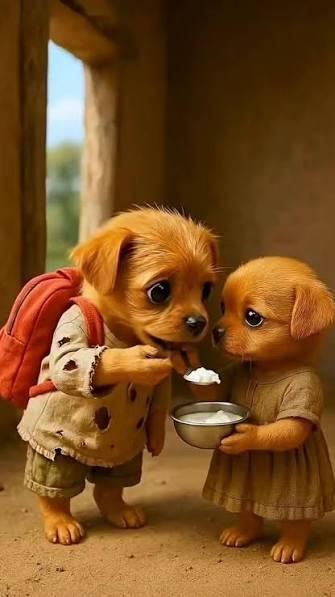puppy-dog: (19, 207, 221, 546), (198, 255, 335, 565)
